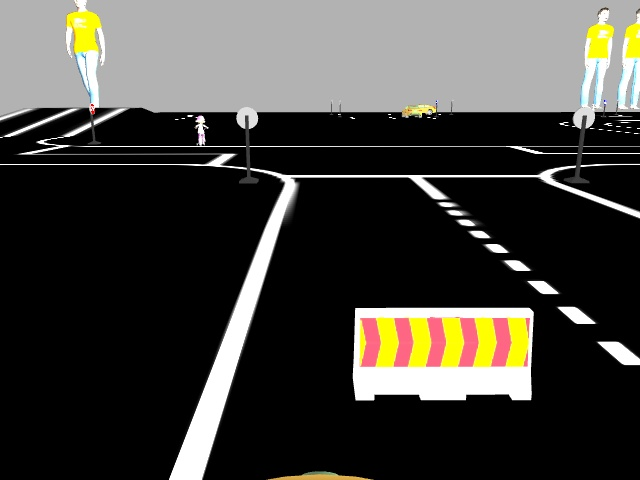ClosedRoadStand: (355, 305, 533, 396)
